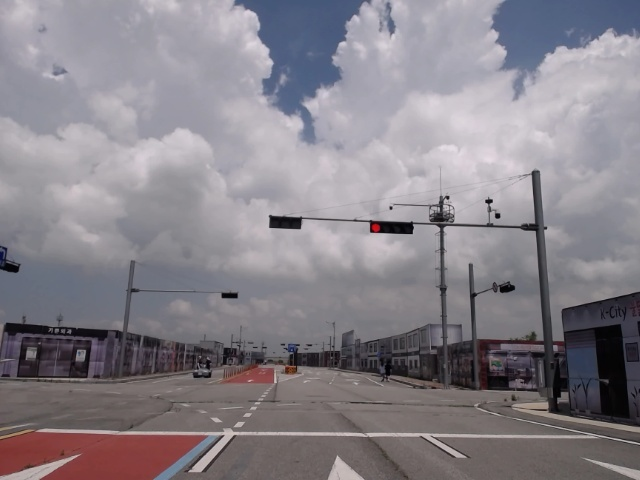red_4: (370, 222, 413, 234)
